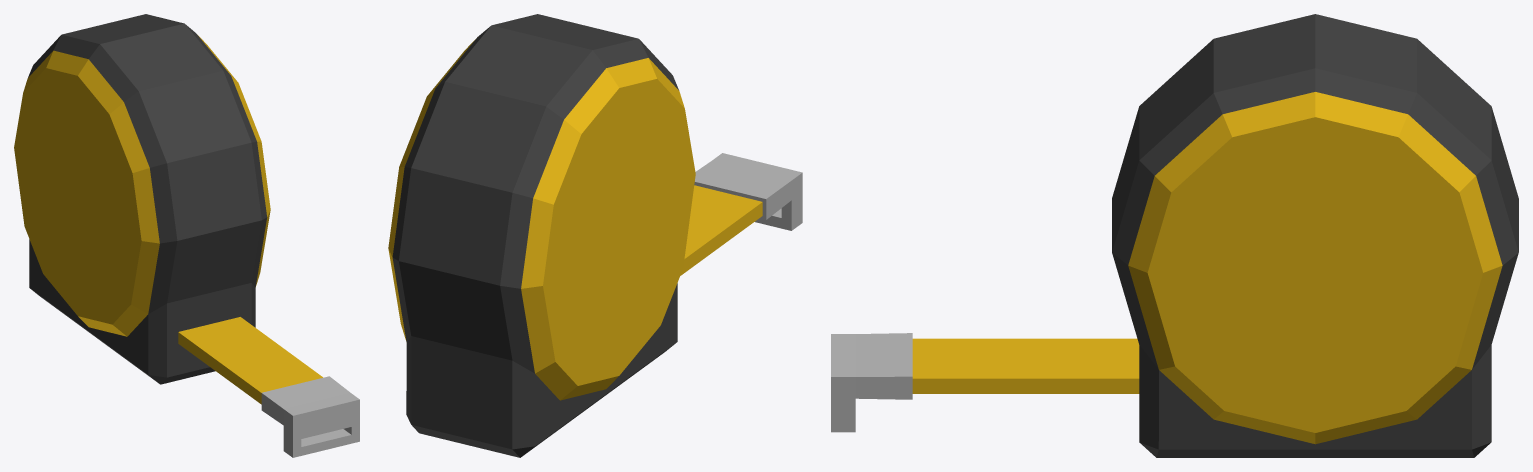
File: Tape Measure.fbx
3 renders of one model, left to right at view 1: azimuth 30°, elevation 25°; view 2: azimuth 150°, elevation 25°; view 3: azimuth 270°, elevation 25°, orthographic. The views are drawn at different scales.
Visible parts, largest first — view 1: Tape Measure; view 2: Tape Measure; view 3: Tape Measure.
Part boxes in pixels (left/top/right/bottom): Tape Measure: left=14, top=14, right=359, bottom=457; Tape Measure: left=388, top=14, right=802, bottom=457; Tape Measure: left=831, top=14, right=1518, bottom=457.
Bounding box in the file's own units: 9.1 × 19.97 × 31.93.
